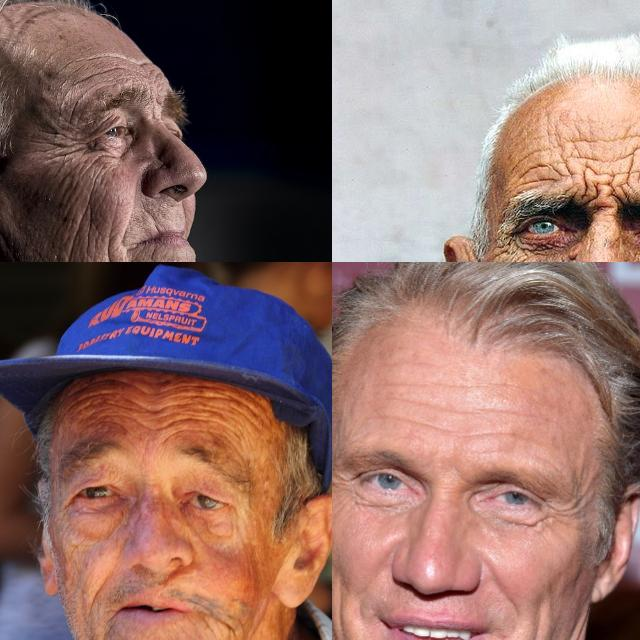bunny_line: (558, 256, 573, 262)
crows_feet: (544, 495, 578, 537), (56, 128, 90, 164), (332, 466, 357, 514), (498, 229, 518, 259)
forehead: (390, 393, 454, 443), (183, 388, 241, 434), (66, 63, 124, 87), (128, 394, 170, 426), (478, 412, 516, 446), (559, 136, 593, 172), (514, 152, 552, 184), (70, 381, 102, 417), (623, 125, 640, 177), (136, 59, 160, 83)
frown_line: (580, 182, 624, 205)
gummy_smile: (479, 562, 521, 610), (82, 575, 106, 613), (126, 186, 142, 216), (178, 202, 192, 232)
masseter: (66, 195, 96, 262), (332, 580, 351, 640), (204, 610, 240, 640), (553, 622, 586, 640)
sad_smile: (105, 233, 126, 262)
smoker_lines: (146, 210, 162, 234)
